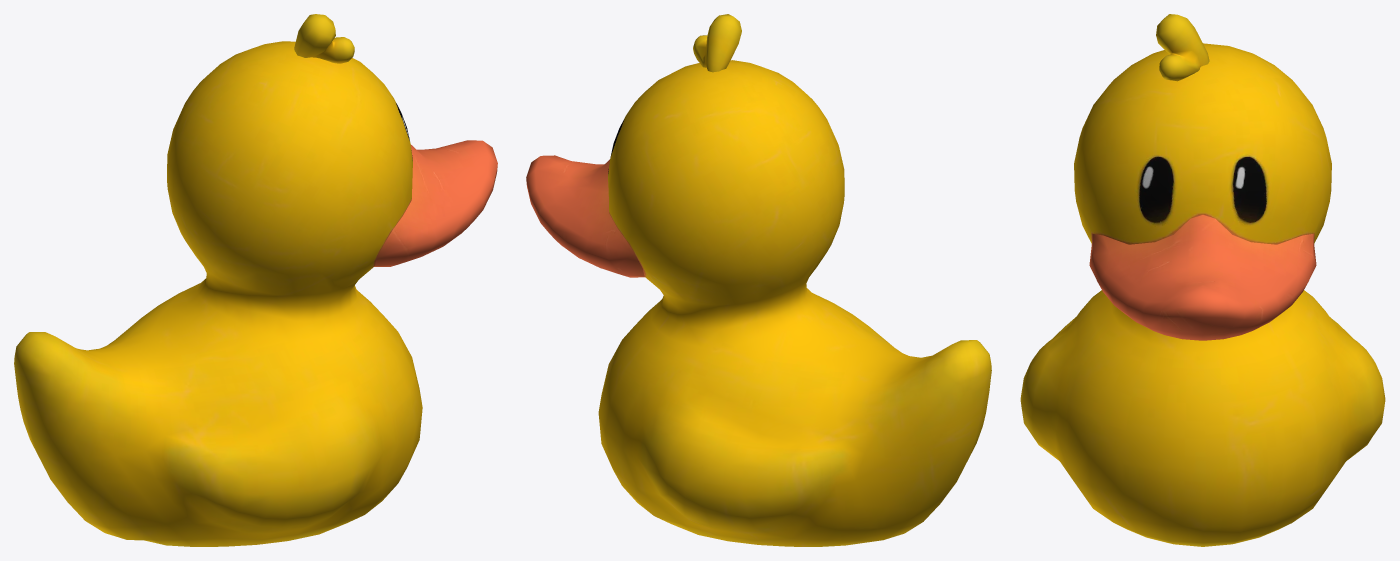
The model's file is aduck.glb.
3 renders of one model, left to right at view 1: azimuth 30°, elevation 25°; view 2: azimuth 150°, elevation 25°; view 3: azimuth 270°, elevation 25°, orthographic. The views are drawn at different scales.
Visible parts, largest first — view 1: Object_2; view 2: Object_2; view 3: Object_2.
Part boxes in pixels (x1,y1,x2,y2): Object_2: (14,14,497,546); Object_2: (526,14,991,546); Object_2: (1020,14,1385,546).
Bounding box in the file's own units: 0.3328 × 0.3289 × 0.2151.
Materials: 1 (1 with a texture image).
